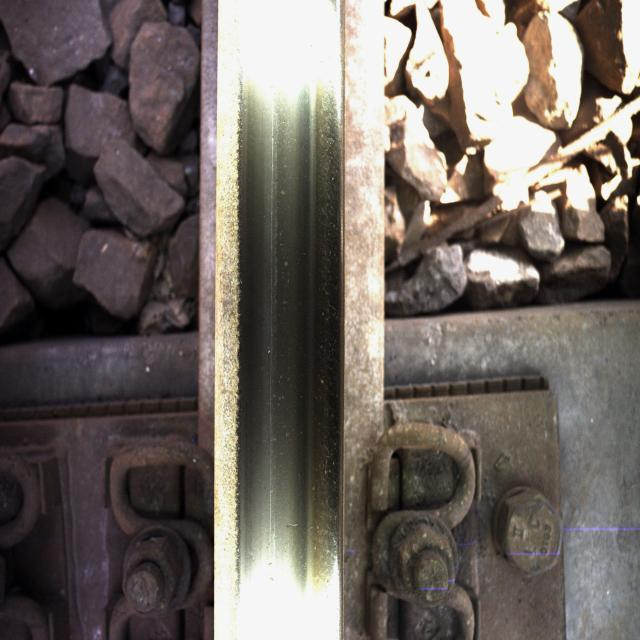break: (235, 15, 331, 603)
